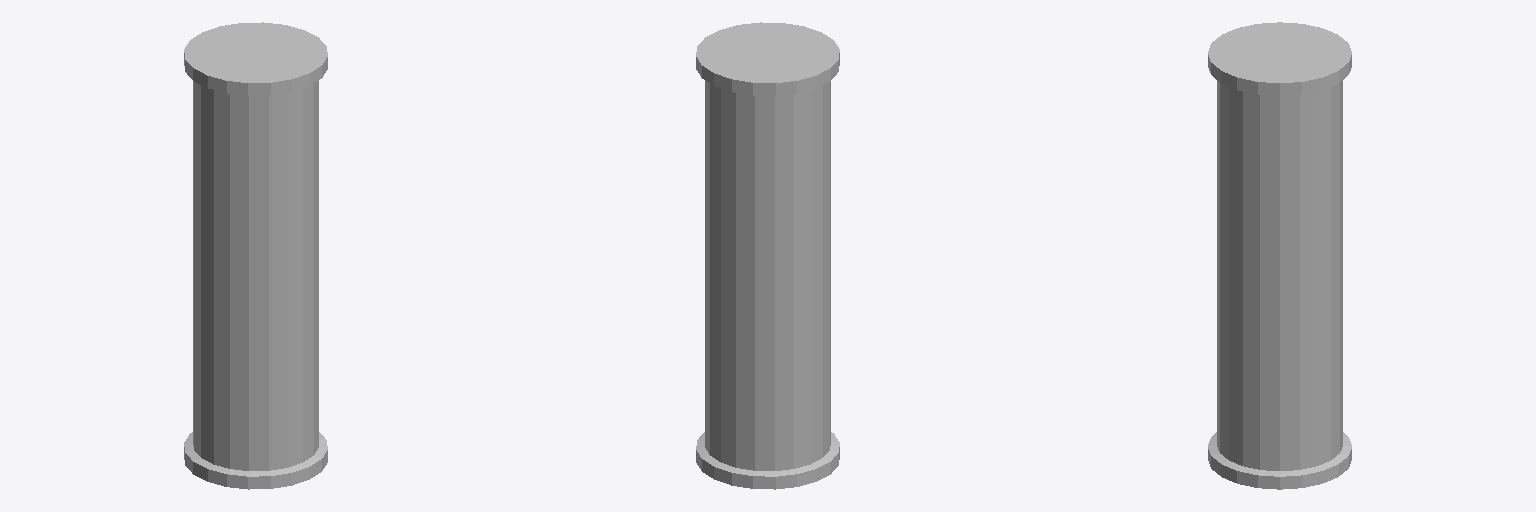
Rendered from SmallPipe.obj.
3 renders of one model, left to right at view 1: azimuth 30°, elevation 25°; view 2: azimuth 150°, elevation 25°; view 3: azimuth 270°, elevation 25°, orthographic.
Visible parts, largest first — view 1: SmallPipe; view 2: SmallPipe; view 3: SmallPipe.
Part boxes in pixels (x1,y1,x2,y2): SmallPipe: (184,22,327,489); SmallPipe: (696,22,839,489); SmallPipe: (1208,22,1351,489).
Bounding box in the file's own units: 2.28 × 7.07 × 2.28.